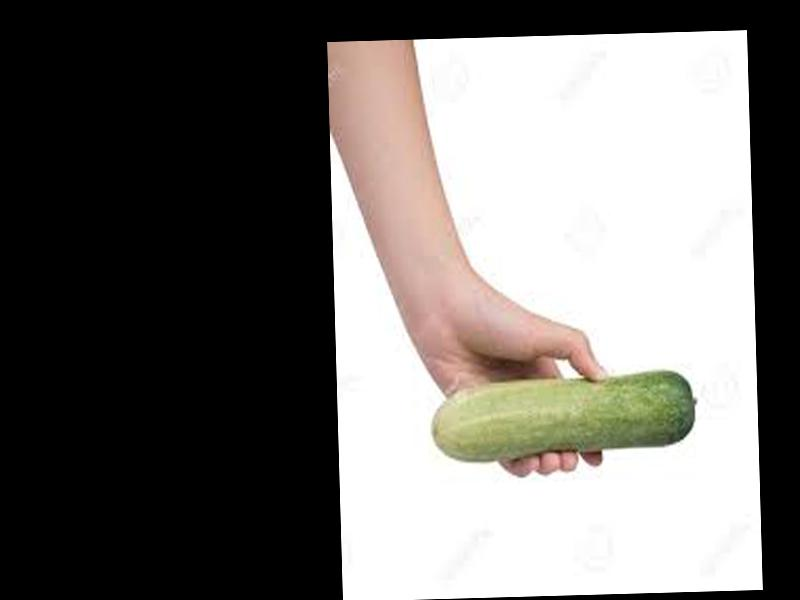Cucumber: (428, 364, 699, 460)
